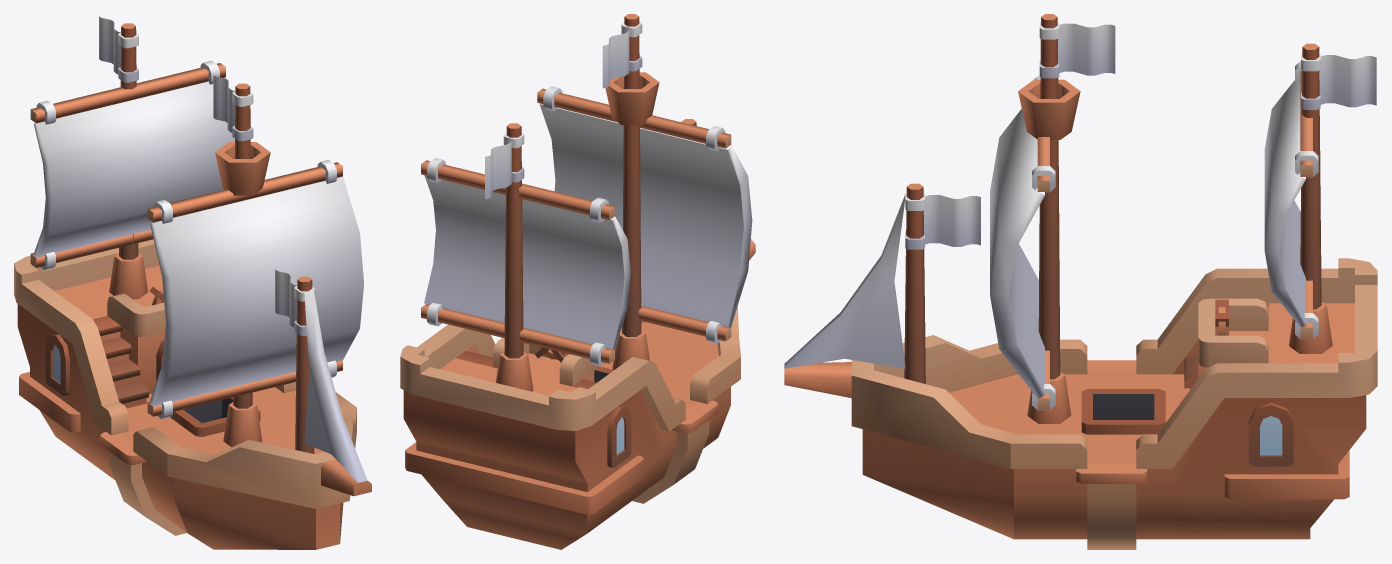
Rendered from boat_ship_small.glb.
3 renders of one model, left to right at view 1: azimuth 30°, elevation 25°; view 2: azimuth 150°, elevation 25°; view 3: azimuth 270°, elevation 25°, orthographic. The views are drawn at different scales.
Visible parts, largest first — view 1: ship-small; view 2: ship-small; view 3: ship-small.
Boxes of the visible parts, box(x1,y1,x2,y2) form: ship-small: box(14, 15, 371, 549); ship-small: box(400, 14, 755, 549); ship-small: box(784, 14, 1377, 549).
Size of the model in its own units: 4.8 by 9.96 by 10.6.
1 material, 1 textured.
